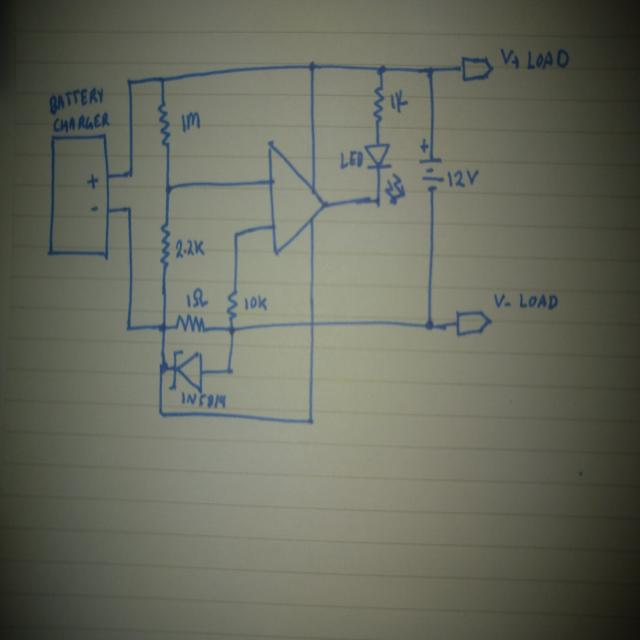crossover: (305, 316, 319, 330)
diode: (364, 142, 407, 204), (168, 347, 203, 395)
junction: (422, 314, 436, 334), (422, 63, 437, 80), (157, 357, 170, 376), (374, 62, 387, 77), (158, 73, 171, 87), (158, 320, 170, 335), (163, 181, 174, 197), (373, 193, 384, 209), (225, 324, 238, 336), (124, 166, 136, 179), (124, 75, 136, 88), (123, 202, 135, 214), (305, 413, 316, 426), (124, 321, 134, 335), (306, 59, 316, 72), (156, 408, 166, 421), (232, 229, 242, 241), (225, 364, 234, 376)
resistor: (156, 100, 174, 147), (174, 313, 207, 336), (159, 221, 171, 269), (372, 83, 384, 126), (225, 289, 240, 323)
source: (46, 132, 112, 262), (417, 156, 445, 197)
terminal: (454, 308, 493, 338), (458, 54, 495, 83)
text: (498, 46, 570, 72), (47, 87, 104, 115), (492, 289, 558, 312), (52, 111, 111, 133), (179, 388, 228, 410), (446, 167, 482, 189), (175, 237, 206, 260), (184, 285, 210, 311), (242, 292, 270, 314), (388, 86, 409, 114), (337, 149, 364, 170), (179, 110, 201, 132)
